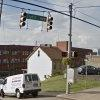Car: (2, 66, 44, 100)
